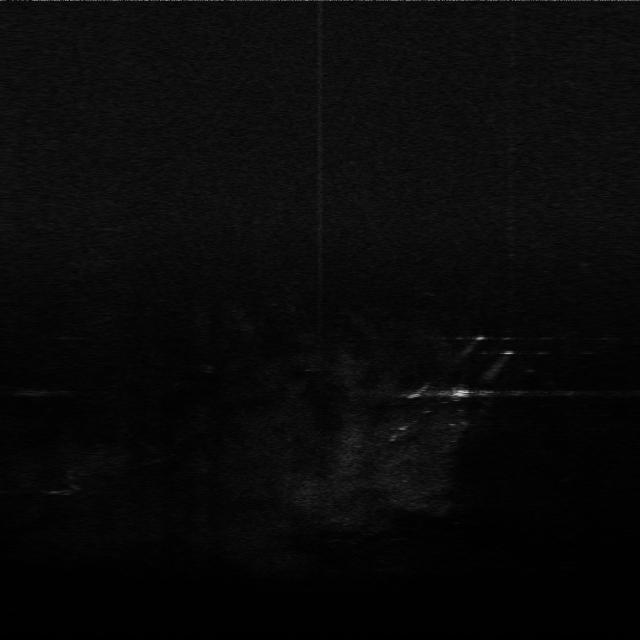rov: (448, 387, 472, 400)
